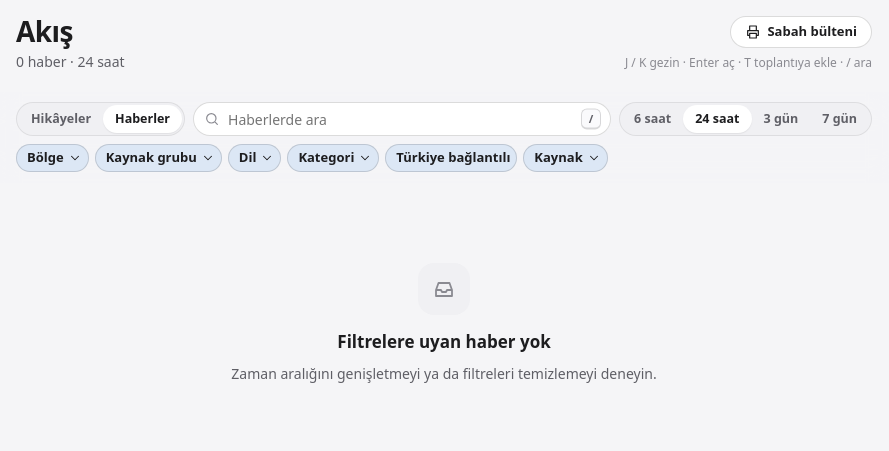
Test case: FeedPage › searches the translations of the typed words as soon as the AI has written them
In the search field: (402, 119) [193,102,611,136], type "kuzey kore"
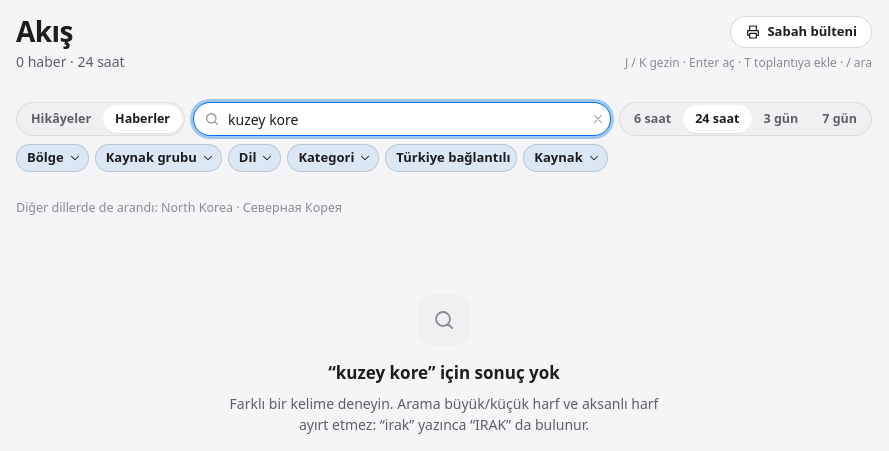
Expected: the text "Diğer dillerde de arandı: North Korea · Северная Корея" is shown, [16,199,342,216]
